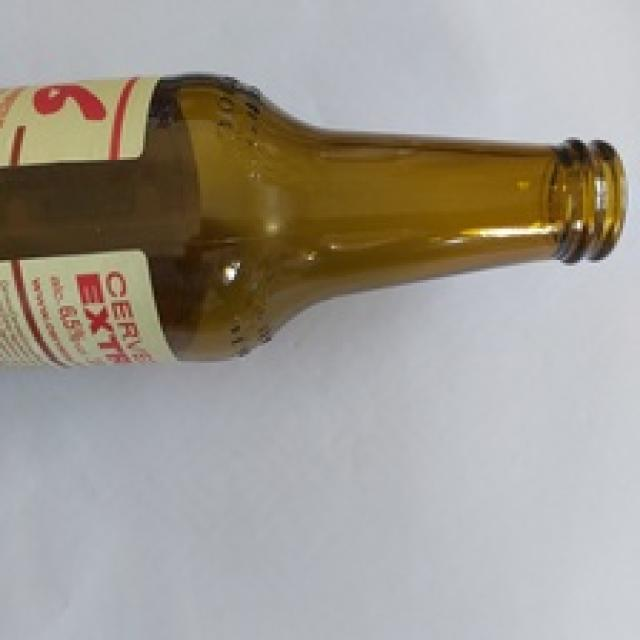Glass: (0, 73, 625, 362)
